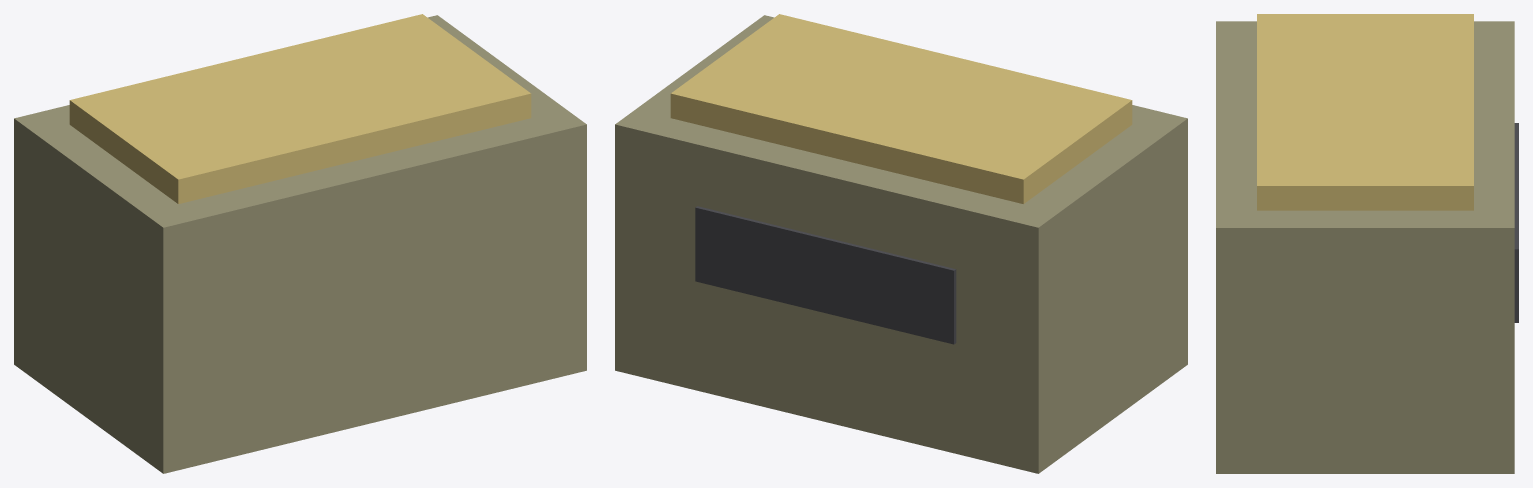
File: ammo_bullets.gltf
3 views of the same model, side by side, from view 1: azimuth 30°, elevation 25°; view 2: azimuth 150°, elevation 25°; view 3: azimuth 270°, elevation 25° (orthographic).
Parts seen in each view (by area): view 1: ammo_bullets; view 2: ammo_bullets; view 3: ammo_bullets.
Boxes of the visible parts, <box> form: ammo_bullets: <box>14,14,586,473</box>; ammo_bullets: <box>615,14,1187,473</box>; ammo_bullets: <box>1216,14,1518,473</box>.
Size of the model in its own units: 0.36 by 0.22 by 0.223.
